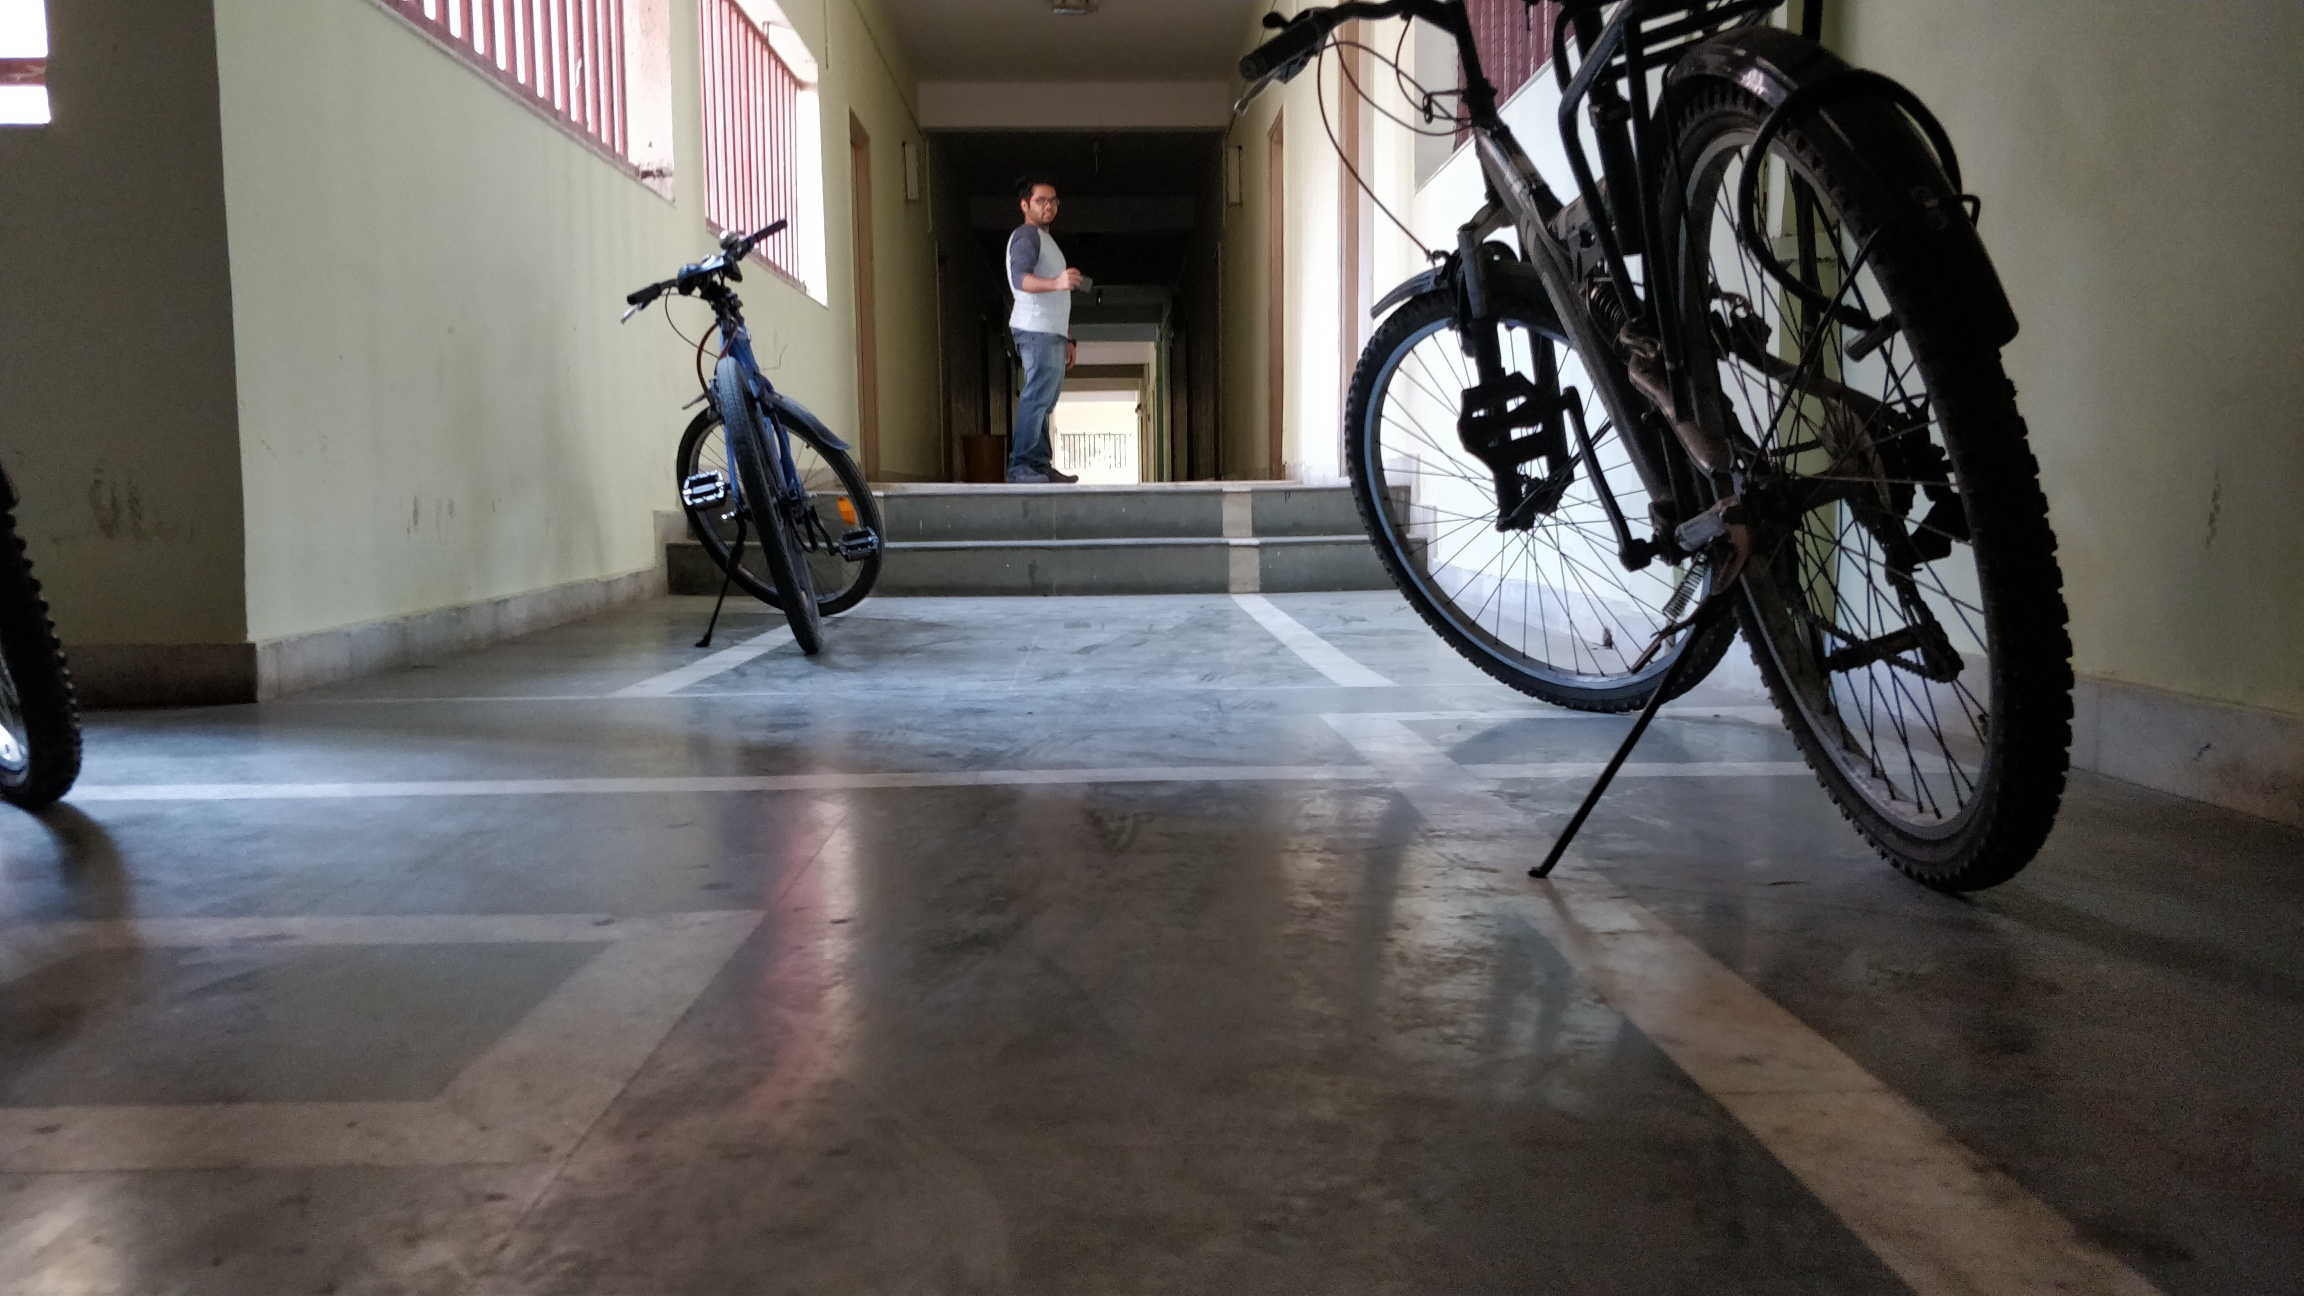stairs_up: (881, 479, 1416, 601)
